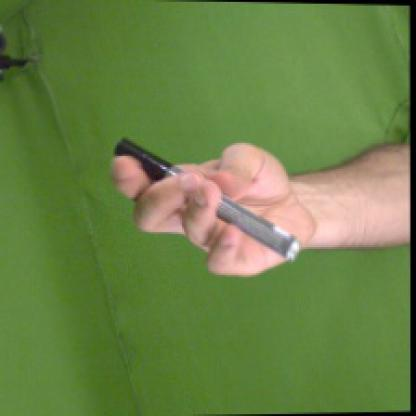Hand: (113, 142, 314, 278)
